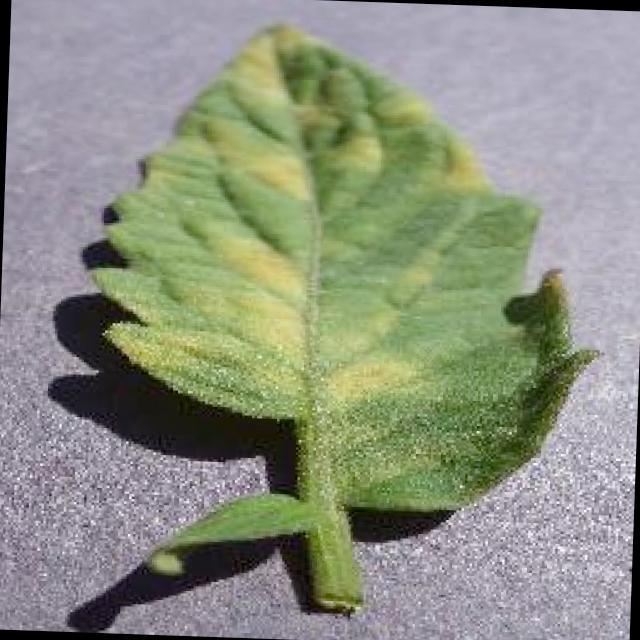Tomato mold leaf: (81, 14, 614, 516)
